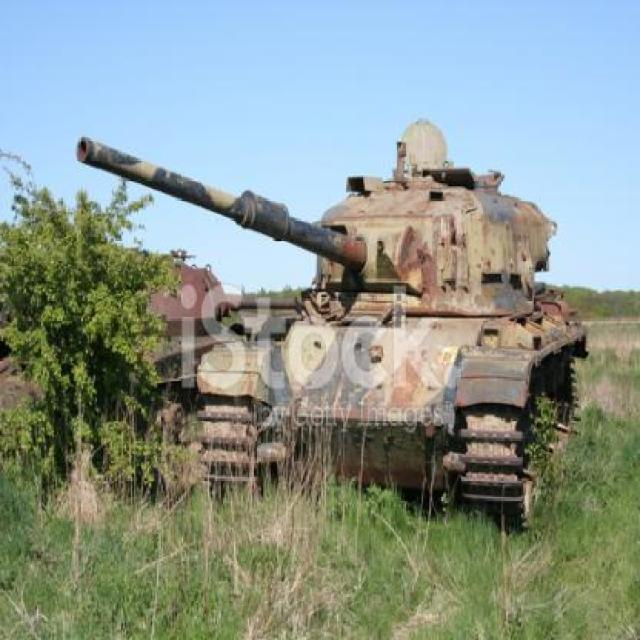corrosion: (76, 118, 592, 540)
